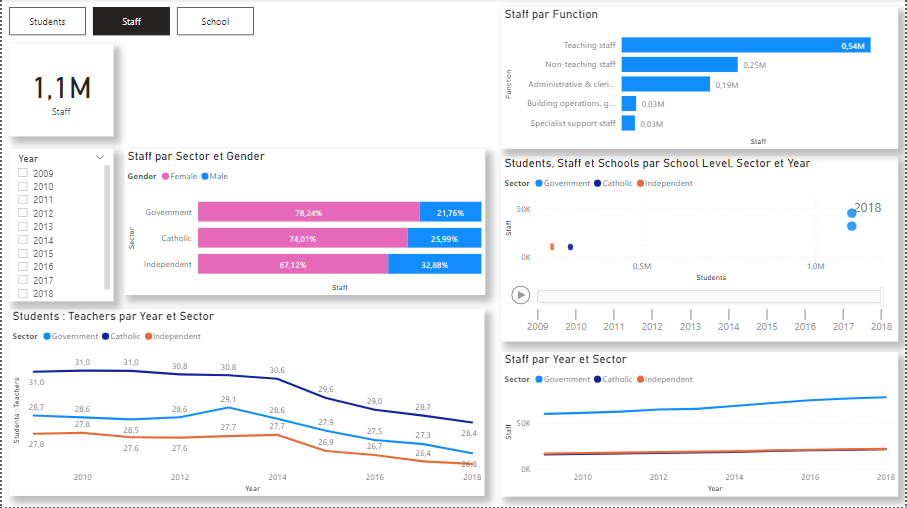

The page's visual inventory and layout, read from the dashboard file:
{"tool":"powerbi","page":{"name":"Staff","canvas":[1280,720],"ordinal":1},"visuals":[{"type":"card","fields":{"Values":["Sum(Staff.Staff)"]},"box":[9.9,64.1,147.9,130.7],"z":0},{"type":"hundredPercentStackedBarChart","title":"Staff by Sector and Gender","fields":{"Y":["Sum(Staff.Staff)"],"Category":["DimSchoolSector.Sector"],"Series":["Staff.Gender"]},"box":[184.9,212,511.6,207.1],"z":1000},{"type":"clusteredBarChart","fields":{"Y":["Sum(Staff.Staff)"],"Category":["Staff.Function"]},"box":[707.6,11.1,563.3,200.9],"z":3000},{"type":"lineChart","title":"Staff by Year and Sector","fields":{"Y":["Sum(Staff.Staff)"],"Category":["DimDates.Year"],"Series":["DimSchoolSector.Sector"]},"box":[707.6,258.9,563.3,446.2],"z":4000},{"type":"lineChart","title":"Students : Teachers by Year and Sector","fields":{"Y":["Staff.Students : Teachers"],"Category":["DimDates.Year"],"Series":["DimSchoolSector.Sector"]},"box":[9.9,440.1,674.3,265],"z":5000},{"type":"slicer","fields":{"Values":["DimDates.Year"]},"box":[9.9,212,147.9,215.7],"z":6000},{"type":"pageNavigator","box":[9.9,11.1,348.8,40.7],"z":7000}]}

Visuals, with their boxes in screenshot pixels (x1, y1, x2, y2), scaled from the page's 1280x720 canvas onto the 907x508 screenshot:
card - Sum(Staff.Staff): x1=7 y1=45 x2=112 y2=137
"Staff by Sector and Gender" hundredPercentStackedBarChart: x1=131 y1=150 x2=494 y2=296
clusteredBarChart - Sum(Staff.Staff) x Staff.Function: x1=501 y1=8 x2=901 y2=150
"Staff by Year and Sector" lineChart: x1=501 y1=183 x2=901 y2=497
"Students : Teachers by Year and Sector" lineChart: x1=7 y1=311 x2=485 y2=497
slicer - DimDates.Year: x1=7 y1=150 x2=112 y2=302
pageNavigator: x1=7 y1=8 x2=254 y2=37
